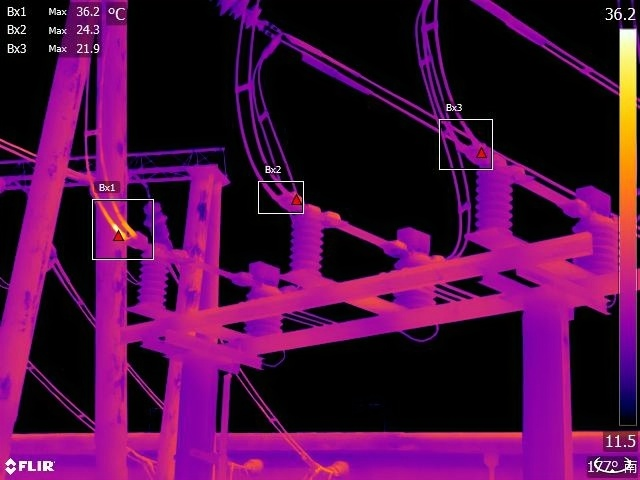clamp: (255, 25, 286, 61)
insulator: (140, 189, 180, 253), (195, 1, 259, 26)
post insulator: (281, 210, 332, 275), (397, 250, 442, 322), (468, 170, 519, 233), (572, 213, 612, 273), (244, 292, 283, 338), (135, 252, 167, 306)
